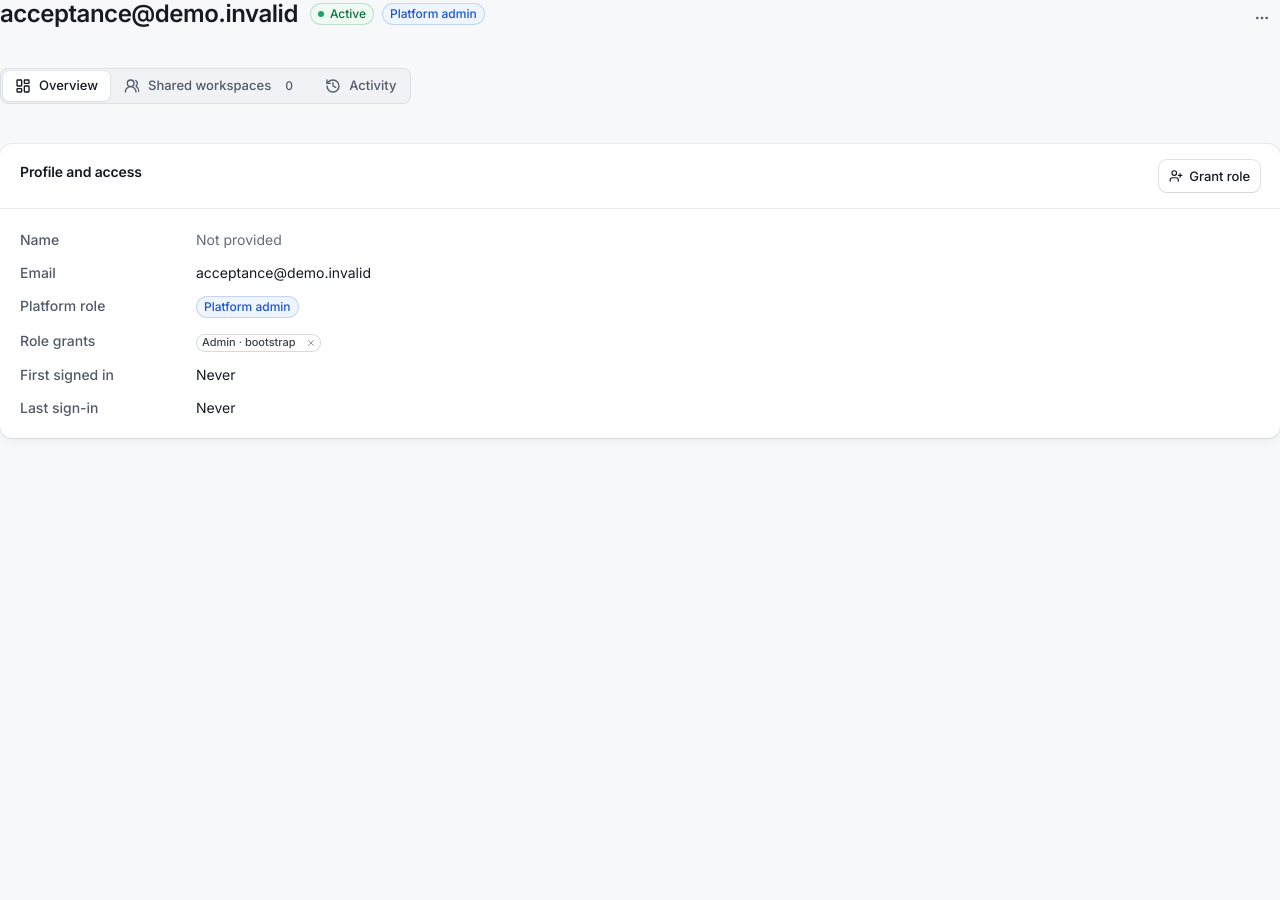
Scenario: removing a manual platform grant › shows the server's last-admin refusal in the dialog
What coordinates should you click on to do the following:
click the button named "Remove Admin bootstrap grant"
I would click on:
 (311, 342)
Its box is x1=304 y1=336 x2=318 y2=350.
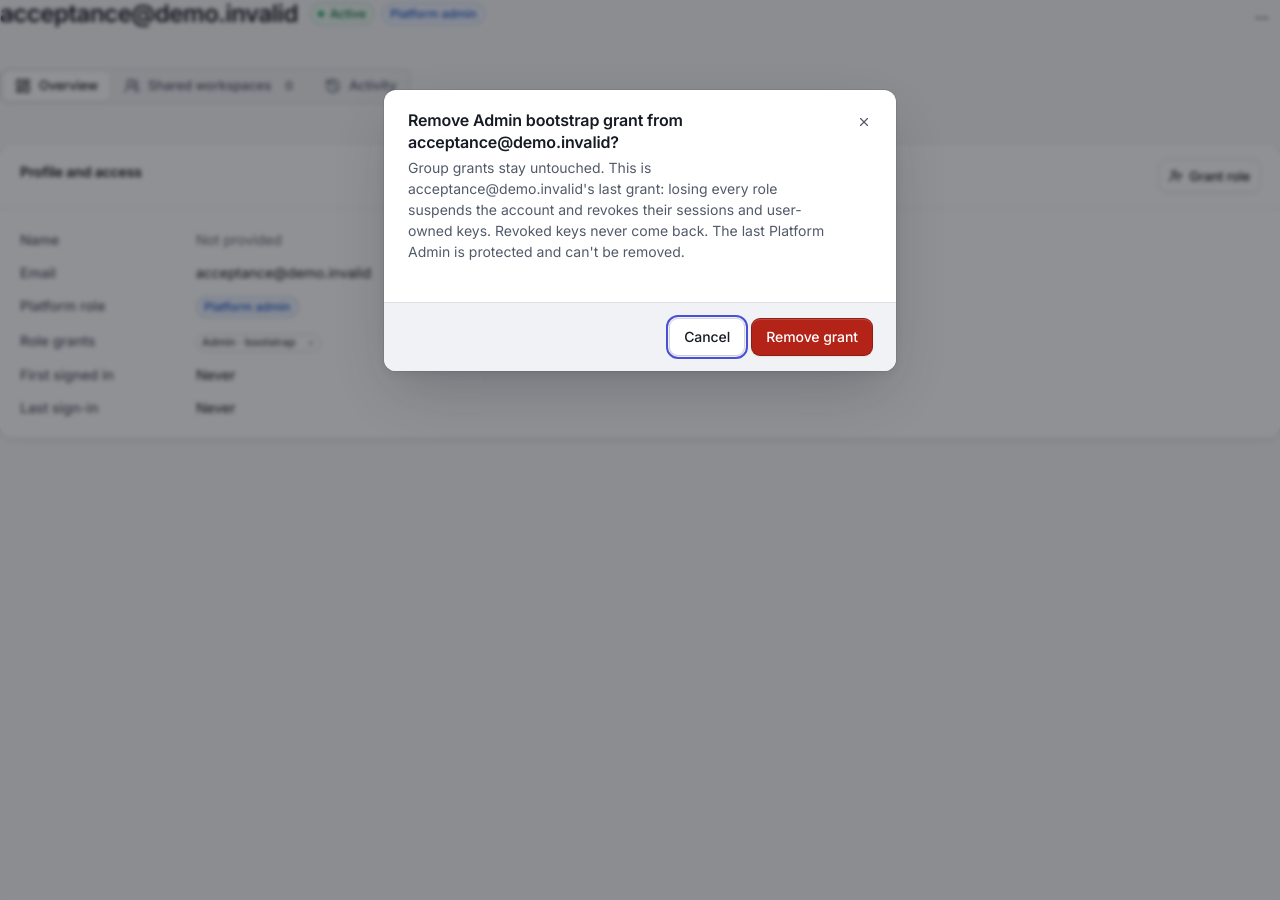
Result: the dialog "Remove Admin bootstrap grant from acceptance@demo.invalid?" shows "The last Platform Admin is protected" at x1=408 y1=159 x2=824 y2=260
Result: the dialog "Remove Admin bootstrap grant from acceptance@demo.invalid?" shows "revokes their sessions and user-owned keys" at x1=408 y1=159 x2=824 y2=260
What coordinates should you click on to do the following:
click the button "Remove grant"
I would click on:
 (812, 337)
Its box is x1=752 y1=319 x2=872 y2=355.
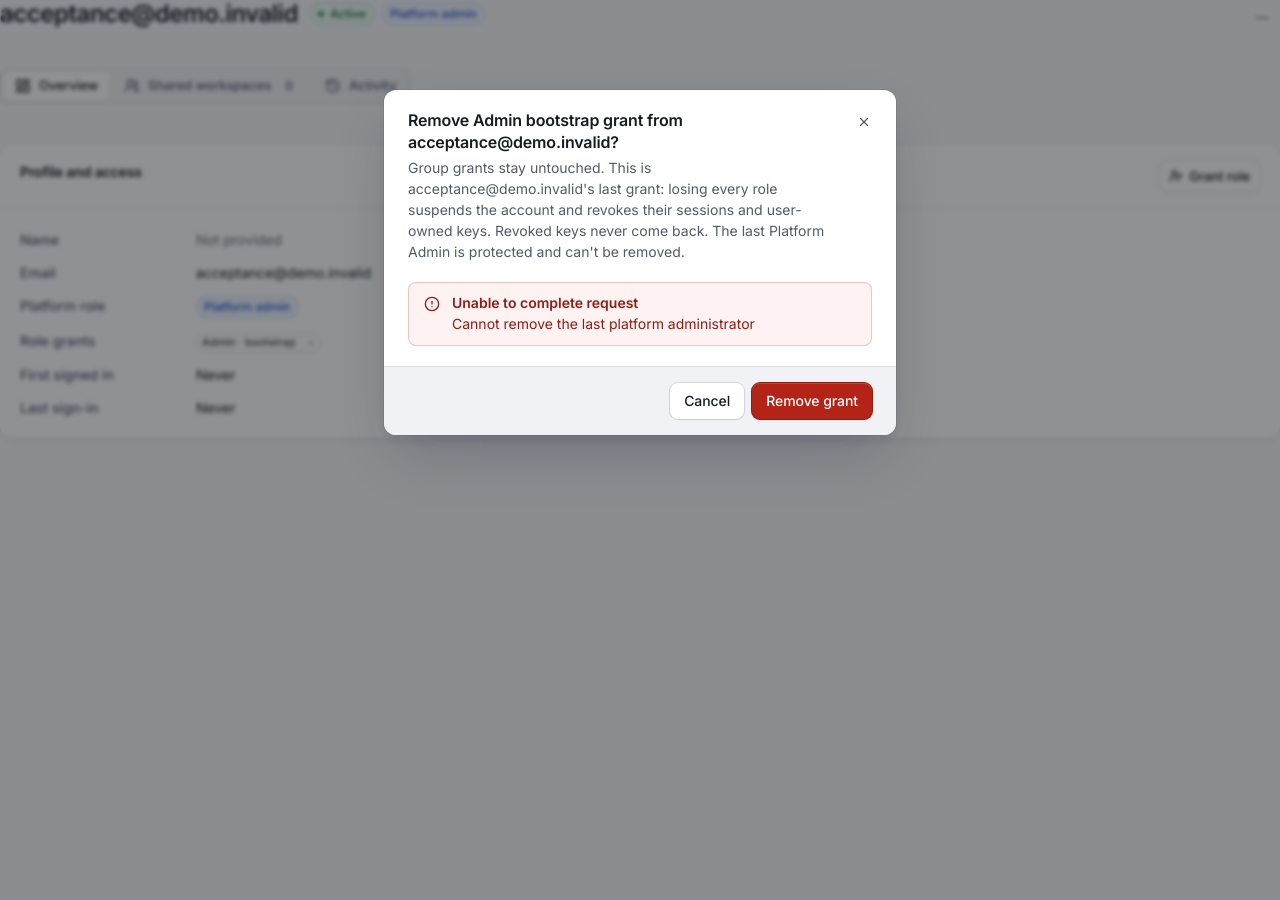
Result: the text "Cannot remove the last platform administrator" is shown at x1=452 y1=315 x2=755 y2=332
